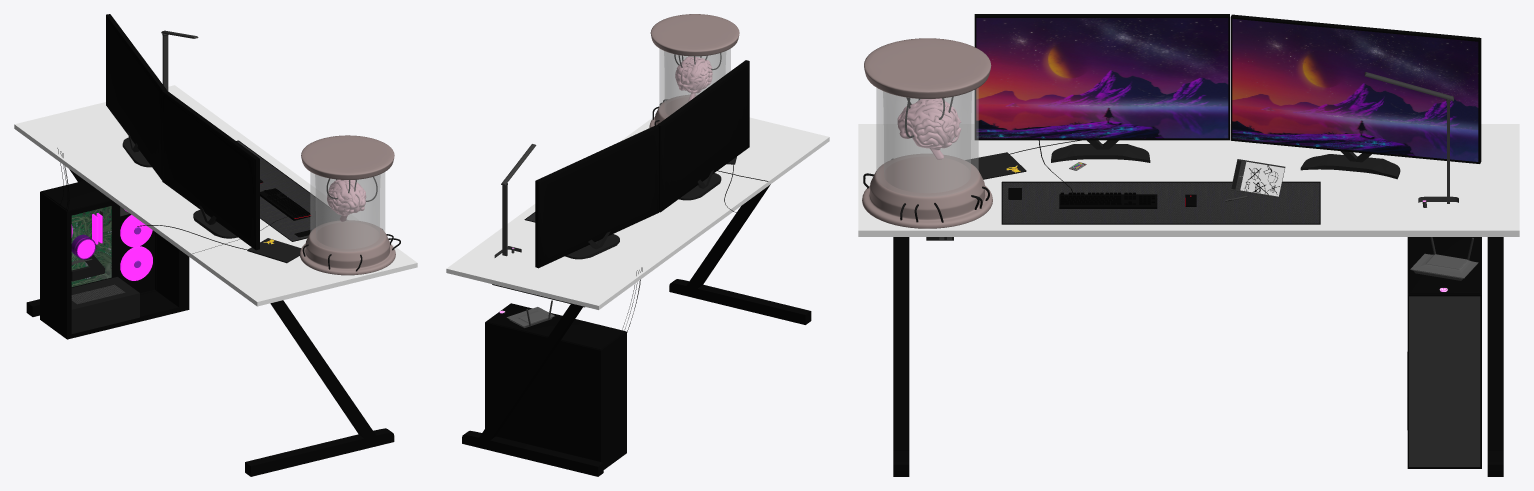
Rendered from brain_comp-uGrXUrzZ.glb.
The picture shows the model from 3 angles, left to right: view 1: azimuth 30°, elevation 25°; view 2: azimuth 150°, elevation 25°; view 3: azimuth 270°, elevation 25°; orthographic projection. The views are drawn at different scales.
Parts seen in each view (by area): view 1: Keyboard_32; view 2: Keyboard_32; view 3: Keyboard_32.
Boxes of the visible parts, box(x1,y1,x2,y2) form: Keyboard_32: box(14, 14, 417, 476); Keyboard_32: box(446, 14, 829, 476); Keyboard_32: box(858, 14, 1519, 476).
Size of the model in its own units: 1.04 by 1.66 by 2.53.
57 materials, 6 textured.
